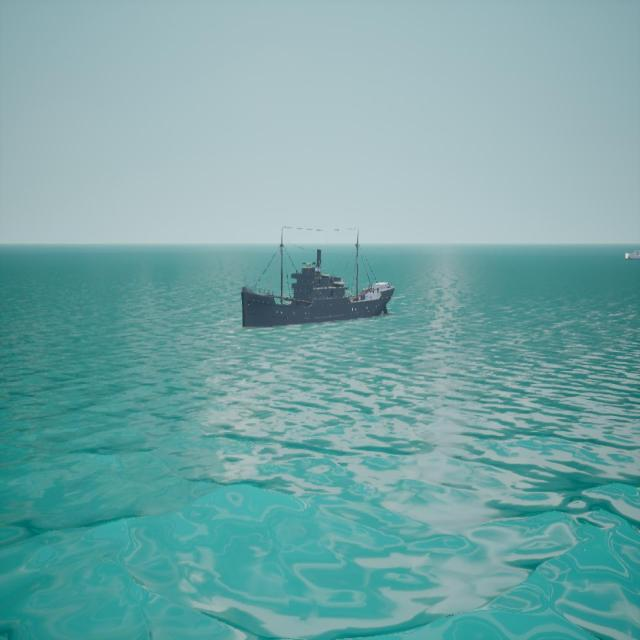fishing ship: (241, 228, 396, 332)
